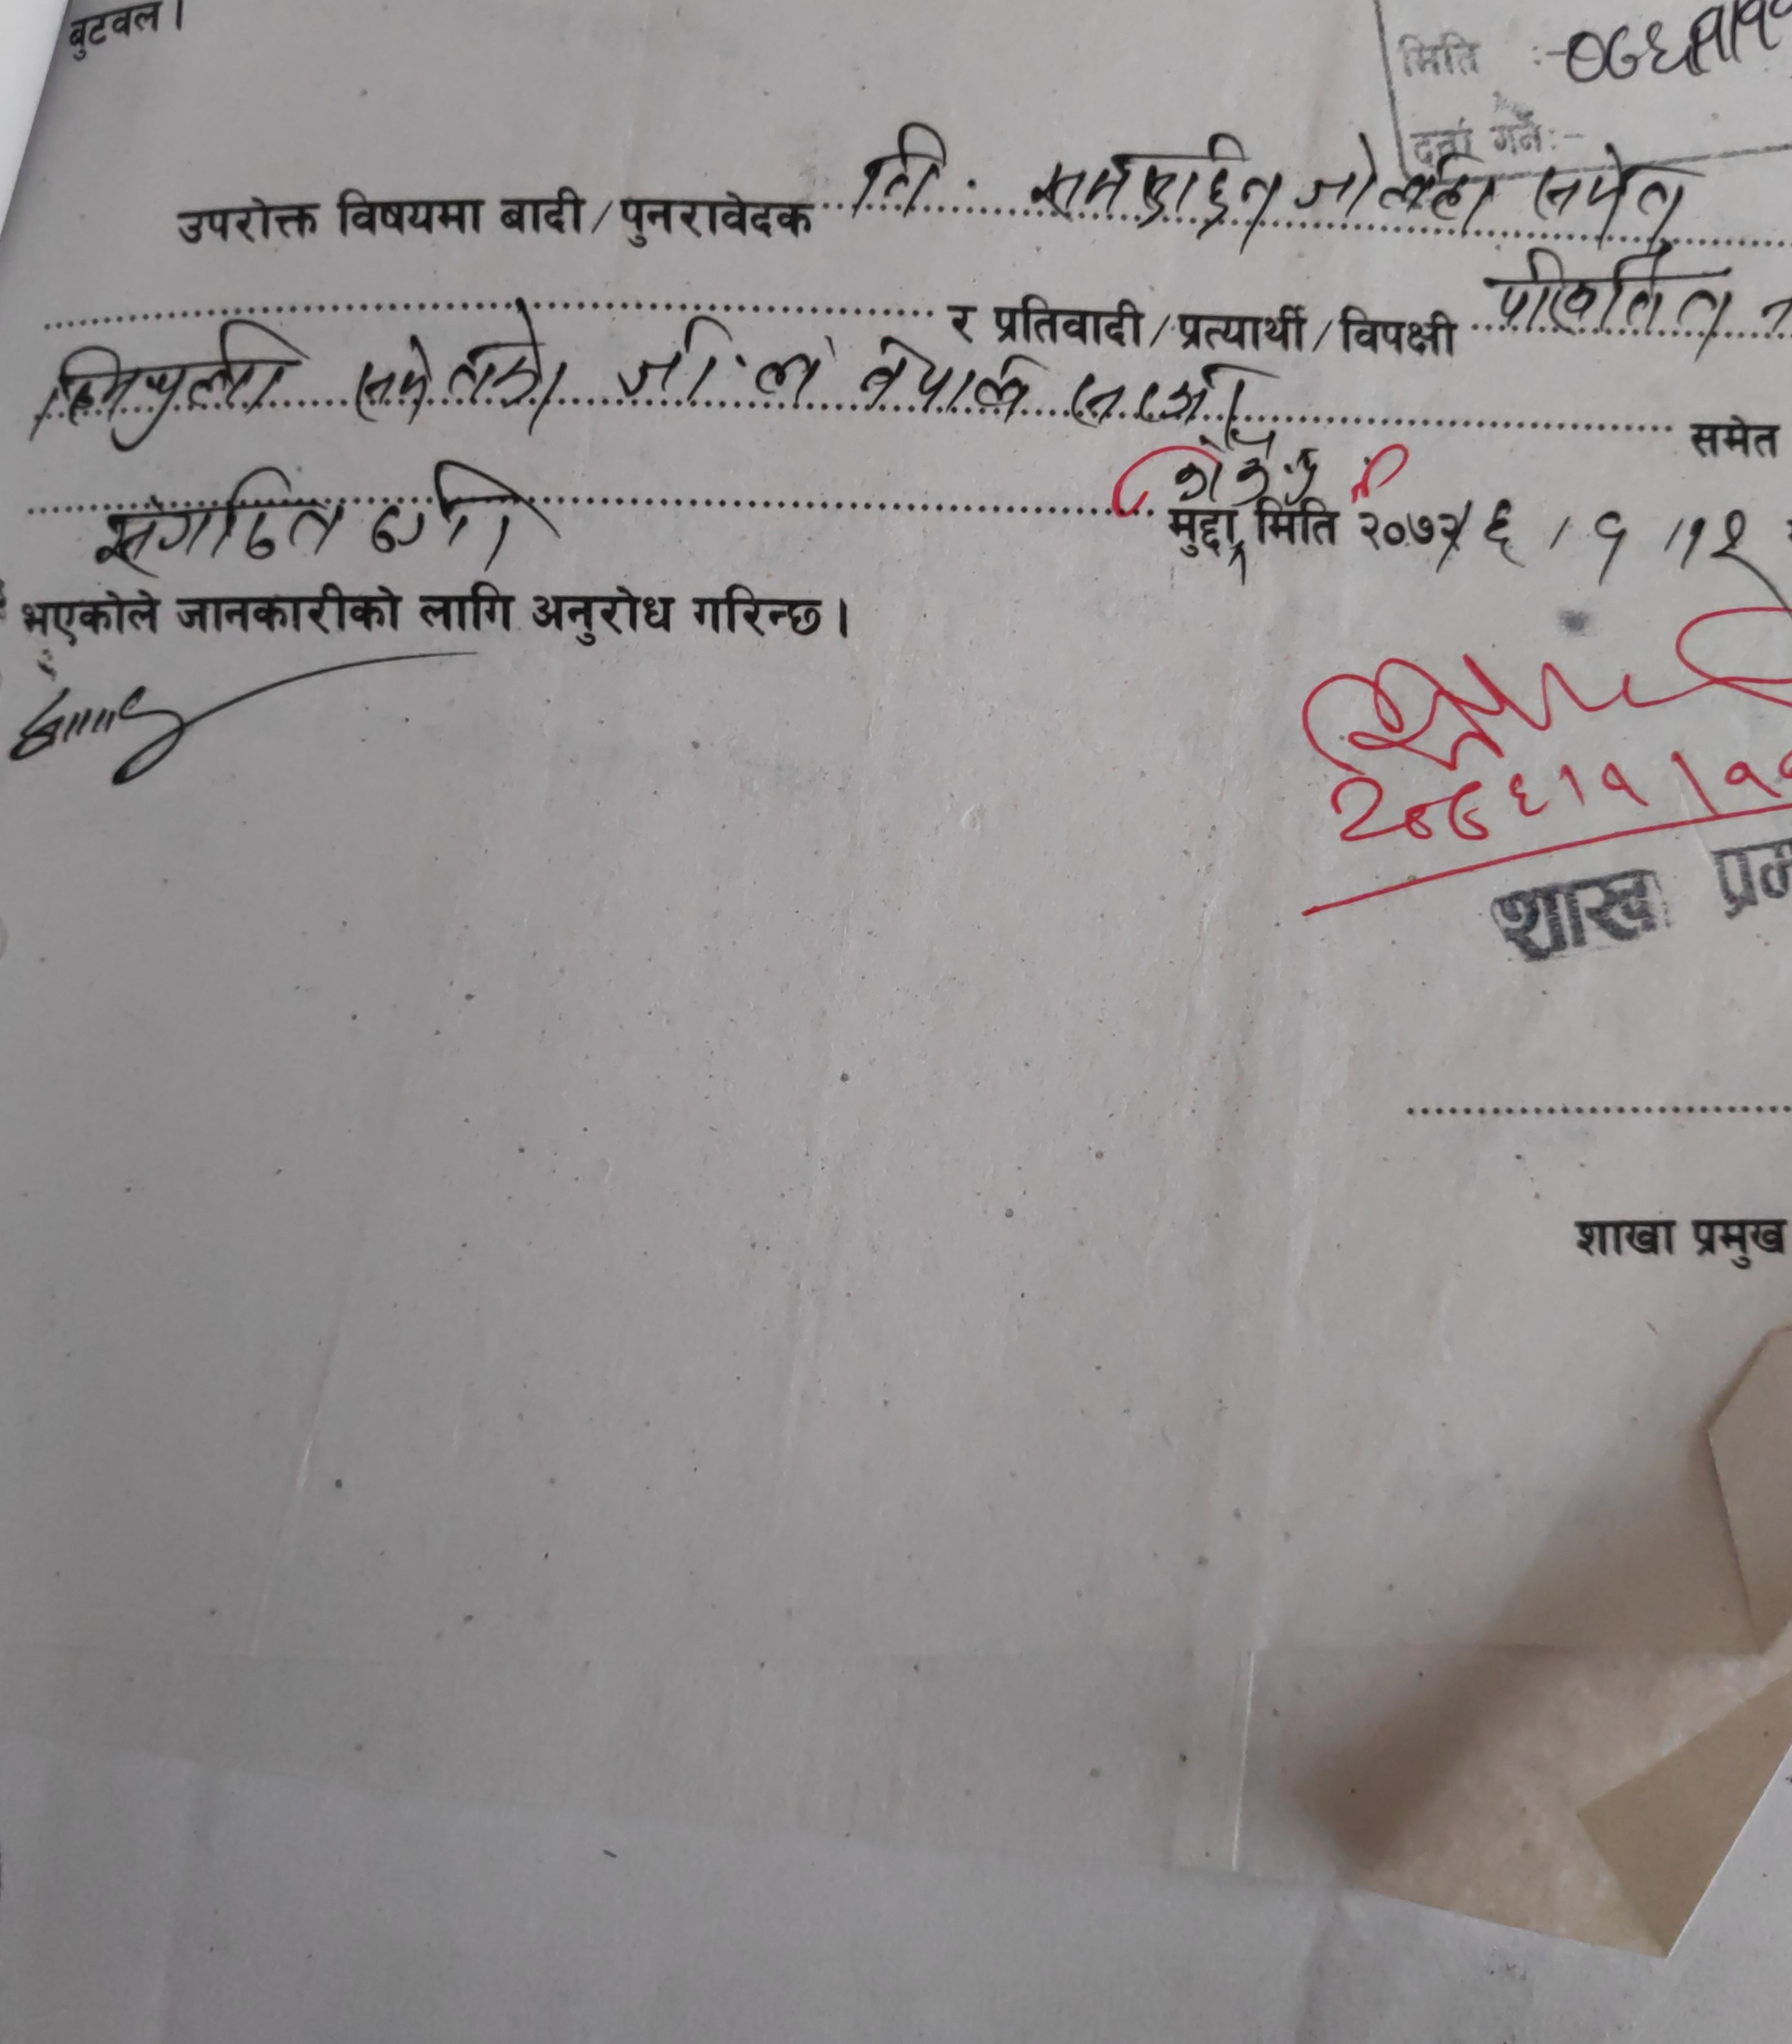text: (23, 313, 306, 452), (1025, 129, 1286, 254), (351, 299, 567, 435), (1484, 245, 1736, 341), (1297, 129, 1502, 243), (848, 334, 1039, 436), (1533, 144, 1695, 238), (1067, 356, 1257, 428), (619, 311, 733, 408), (855, 116, 952, 216), (1682, 501, 1762, 589), (754, 332, 834, 412), (1477, 492, 1524, 577), (1587, 511, 1629, 581)
